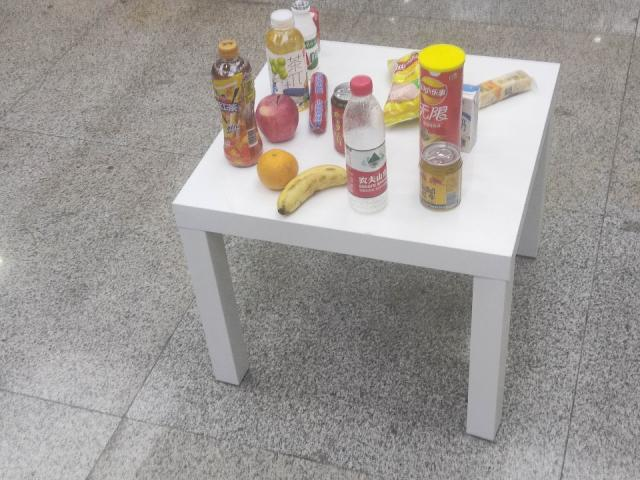Canned_drinks: (416, 139, 462, 210), (330, 81, 352, 157)
bottle: (338, 72, 394, 216)
cylinder: (412, 39, 471, 166)
